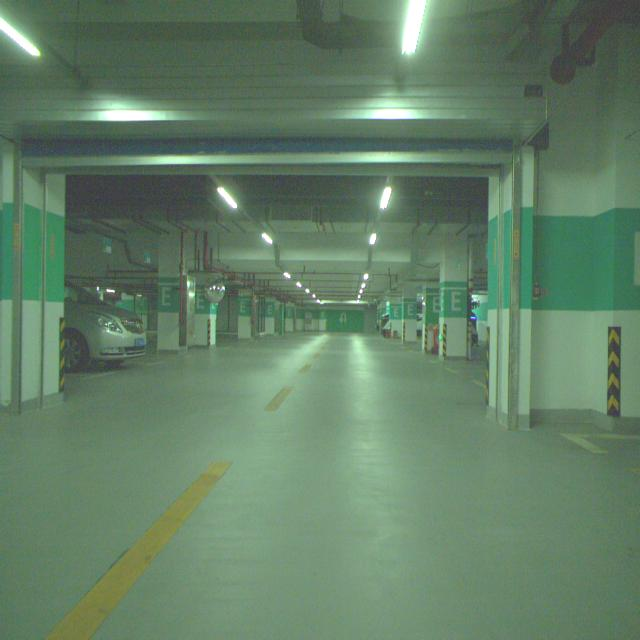pillar: (440, 236, 468, 358)
